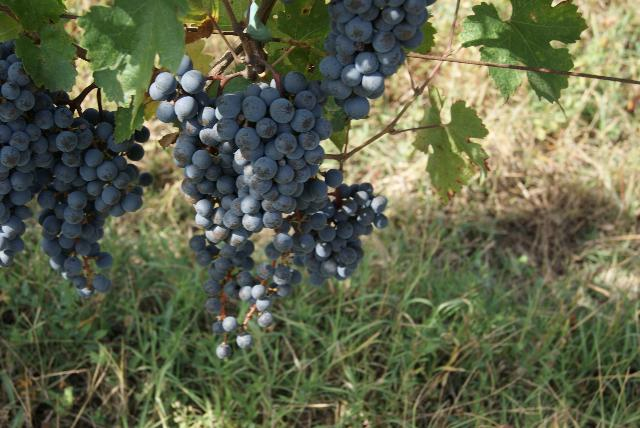grapes: (150, 58, 244, 335), (31, 96, 152, 299), (215, 71, 332, 231), (266, 182, 388, 288), (320, 0, 428, 119), (0, 40, 55, 268), (205, 261, 301, 359)
